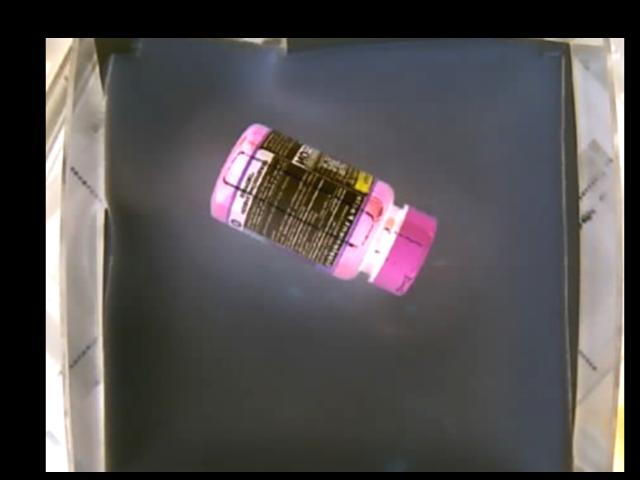Bottle: (208, 121, 435, 303)
